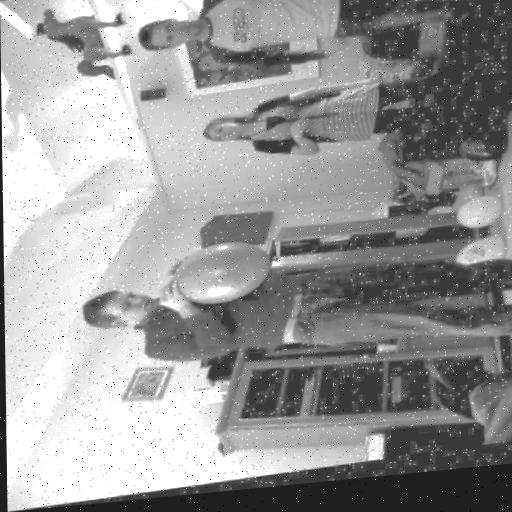balloon: (166, 234, 282, 315), (451, 125, 512, 174), (455, 189, 506, 241), (446, 235, 509, 276)
